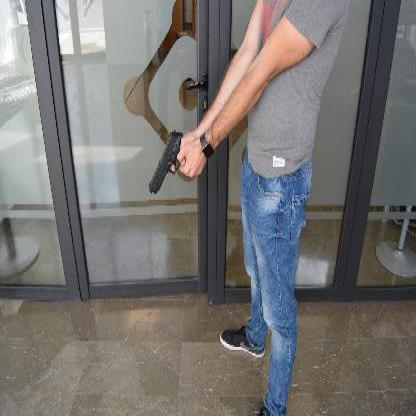pistol: (147, 128, 182, 192)
